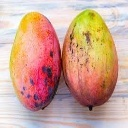mango: (62, 8, 118, 107), (10, 12, 61, 114)
